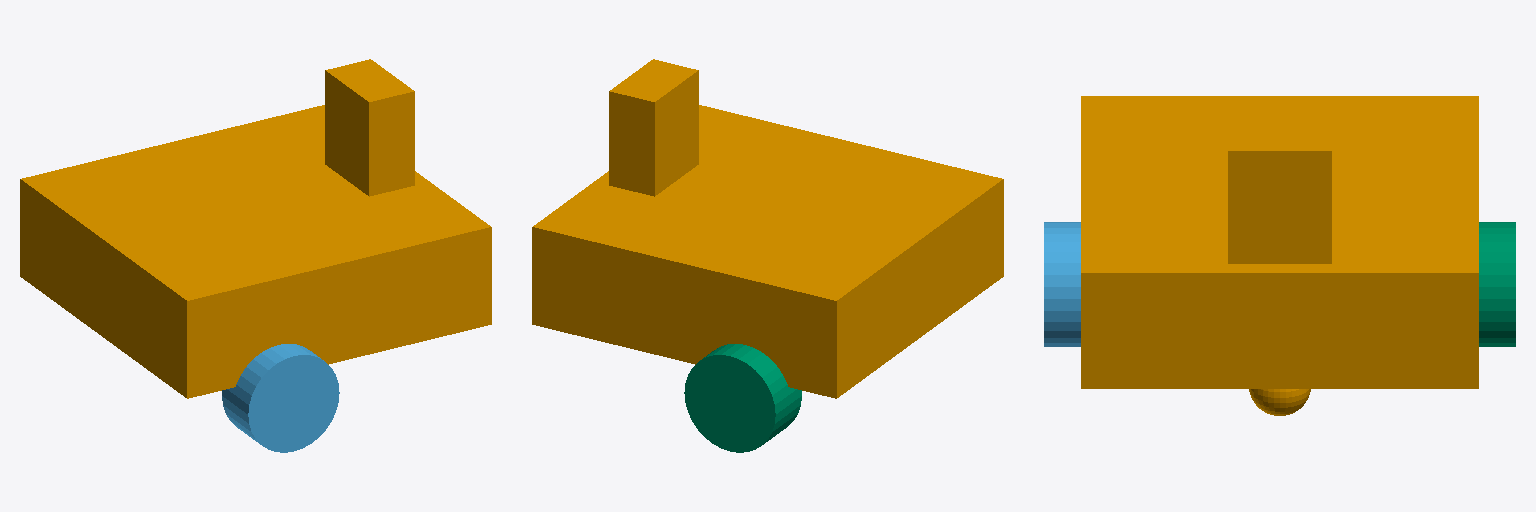
The robot description file, URDF, robot "myrobot":
<?xml version='1.0'?>

<robot name="myrobot">

<!-- +++++++++++++++++++++++Robot Definition+++++++++++++++++++++++++ /-->


<!--Chassis & Caster Wheel & Kinect Mount /-->
<link name="base_link">

<!--Chassis /-->
    <inertial>
        <origin xyz="0.0 0.0 0.0" rpy="0.0 0.0 0.0"/>
        <mass value="10"/>
        <inertia ixx="0.1" ixy="0.0" ixz="0.0" iyy="0.1" iyz="0.0" izz="0.1"/>
    </inertial>
    <visual name="base_link_visual">
        <origin xyz="0.0 0.0 0.0" rpy="0.0 0.0 0.0"/>
        <geometry>
            <box size="0.40 0.38 0.123"/>
        </geometry>
    </visual>
    <collision name="base_link_collision">
        <origin xyz="0.0 0.0 0.0" rpy="0.0 0.0 0.0"/>
        <geometry>
            <box size="0.0 0.0 0.0"/>
        </geometry>
    </collision>

<!--Caster Wheel /-->
    <visual name="caster_visual">
        <origin xyz="0.147 0.0 -0.0815" rpy="0.0 0.0 0.0"/>
        <geometry>
            <sphere radius="0.03"/>
        </geometry>
    </visual>
    <collision name='caster_collision'>
        <origin xyz="0.147 0.0 -0.0815" rpy="0.0 0.0 0.0"/>
        <geometry>
            <sphere radius="0.03"/>
        </geometry>
    </collision>

<!--Kinect Mount /-->
    <visual name="kinect_visual">
        <origin xyz="0.15 0.0 0.12" rpy="0.0 0.0 0.0"/>
        <geometry>
            <box size="0.06 0.10 0.12"/>
        </geometry>
    </visual>
    <collision name="kinect_collision">
        <origin xyz="0.15 0.0 0.12" rpy="0.0 0.0 0.0"/>
        <geometry>
            <box size="0.06 0.10 0.12"/>
        </geometry>
    </collision>

</link>


<!-- ++++++++++++++++Right wheel+++++++++++++++++++++++++++++++ /-->

<!-- Right wheel Link /-->
<link name="right_wheel">
    <inertial>
        <origin xyz="0.0 0.0 0.0" rpy="0 1.5707 1.5707"/>
        <mass value="0.0"/>
        <inertia ixx="0.1" ixy="0.0" ixz="0.0" iyy="0.1" iyz="0.0" izz="0.1"/>
    </inertial>
    <visual name="right_wheel_visual">
        <origin xyz="0.0 0.0 0.0" rpy="0 1.5707 1.5707"/>
        <geometry>
            <cylinder radius="0.06" length="0.06"/>
        </geometry>
    </visual>
    <collision>
        <origin xyz="0.0 0.0 0.0" rpy="0 1.5707 1.5707"/>
        <geometry>
            <cylinder radius="0.06" length="0.06"/>
        </geometry>
    </collision>
</link>

<!--Right wheel Joint /-->
<joint name="right_wheel_joint" type="continuous">
    <origin xyz="-0.08 -0.195 -0.0815" rpy="0.0 0.0 0.0"/>
    <parent link="base_link"/>
    <child link="right_wheel"/>
    <axis xyz="0 1 0"/>
    <limit effort="100" velocity="100"/>
    <dynamics damping="1.0" friction="1.0"/>
</joint>


<!-- ++++++++++++++++ Left wheel+++++++++++++++++++++++++++++++ /-->

<!-- Left wheel Link /-->
<link name="left_wheel">
    <inertial>
        <origin xyz="0.0 0.0 0.0" rpy="0 1.5707 1.5707"/>
        <mass value="0.0"/>
        <inertia ixx="0.1" ixy="0.0" ixz="0.0" iyy="0.1" iyz="0.0" izz="0.1"/>
    </inertial>
    <visual name="left_wheel_visual">
        <origin xyz="0.0 0.0 0.0" rpy="0 1.5707 1.5707"/>
        <geometry>
            <cylinder radius="0.06" length="0.06"/>
        </geometry>
    </visual>
    <collision>
        <origin xyz="0.0 0.0 0.0" rpy="0 1.5707 1.5707"/>
        <geometry>
            <cylinder radius="0.06" length="0.06"/>
        </geometry>
    </collision>
</link>

<!--Left wheel Joint /-->
<joint name="left_wheel_joint" type="continuous">
    <origin xyz="-0.08 0.195 -0.0815" rpy="0.0 0.0 0.0"/>
    <parent link="base_link"/>
    <child link="left_wheel"/>
    <axis xyz="0 1 0"/>
    <limit effort="100" velocity="100"/>
    <dynamics damping="1.0" friction="1.0"/>
</joint>

<!-- ++++++++++++++++++  Kinect  +++++++++++++++++++++++++++++ /-->
<!--kinect joint /-->

<joint name="kinect_joint" type="fixed">
    <origin xyz="0.18 0 .17" rpy="0 0 0"/>
    <parent link="base_link"/>
    <child link="camera_link"/>
</joint>


<!--Kinect  Link /-->
<link name="camera_link">

 <visual>
      <origin xyz="0 0 0.05" rpy="0 0 0"/>
      <geometry>
      <mesh filename="package://robo_description/meshes/kinect.dae"/>
      </geometry>
 </visual>

 <collision>
    <origin xyz="0 0 0" rpy="0 0 0"/>
    <geometry>
    <box size="0.1 0.1 0.1"/>
    </geometry>
 </collision>

 <inertial>
     <mass value="1e-5" />
     <origin xyz="0 0 0" rpy="0 0 0"/>
     <inertia ixx="1e-6" ixy="0" ixz="0" iyy="1e-6" iyz="0" izz="1e-6" />
 </inertial>


</link>




</robot>

--- What the picture shows (computed from the rendered views, not written in the file) ---
3 views of the same robot in one strip: view 1: azimuth 30°, elevation 25°; view 2: azimuth 150°, elevation 25°; view 3: azimuth 270°, elevation 25° (orthographic).
Model myrobot with 4 links and 3 joints (2 continuous, 1 fixed), rooted at base_link, posed all joints at 0.
Links seen in each view (by area): view 1: base_link, right_wheel; view 2: base_link, left_wheel; view 3: base_link, right_wheel, left_wheel.
Link boxes in pixels (bbox=[...]): base_link: bbox=[20, 59, 491, 398]; right_wheel: bbox=[222, 344, 339, 452]; base_link: bbox=[532, 59, 1003, 398]; left_wheel: bbox=[684, 344, 801, 452]; base_link: bbox=[1081, 96, 1478, 415]; right_wheel: bbox=[1044, 222, 1080, 346]; left_wheel: bbox=[1479, 222, 1515, 346].
Size in the robot's own frame: 0.4 by 0.45 by 0.3215 metres.
Meshes: 1 distinct files referenced, 0 mesh visuals loaded (none loaded); not drawn: 1 (reference not matched to a file when rendering).